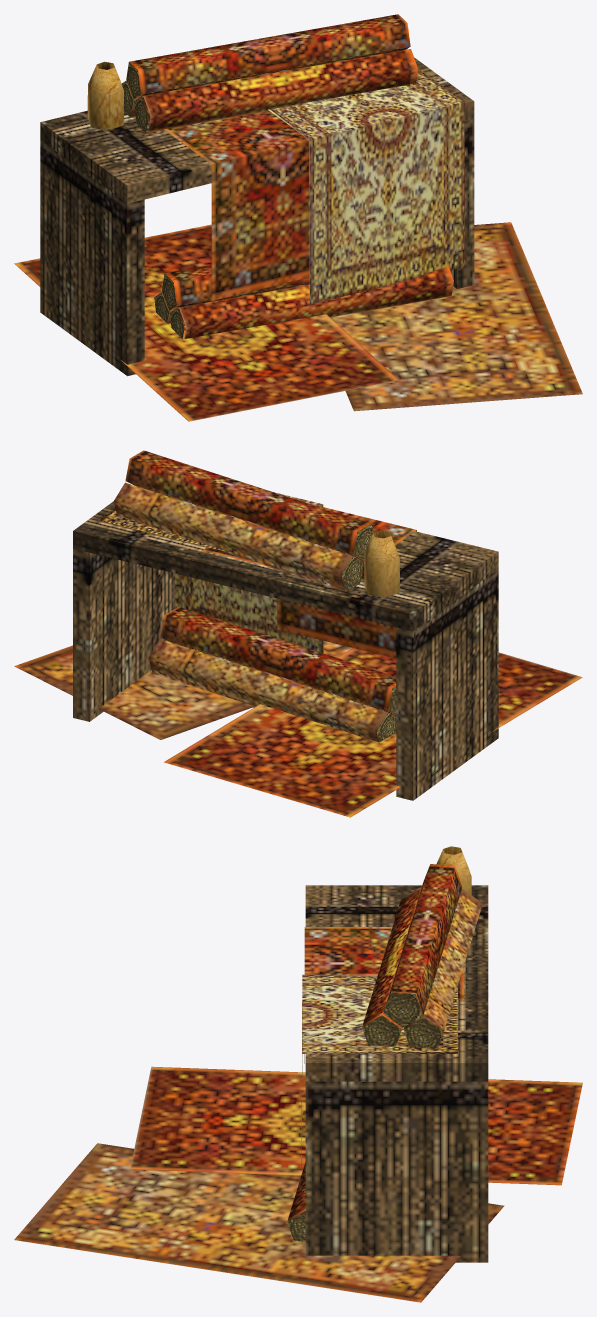
File: treasure_pers_3.dae
3 views of the same model, one above another, from view 1: azimuth 30°, elevation 25°; view 2: azimuth 150°, elevation 25°; view 3: azimuth 270°, elevation 25° (orthographic). The views are drawn at different scales.
Visible parts, largest first — view 1: Object059; view 2: Object059; view 3: Object059.
Boxes of the visible parts, x1,y1,x2,y2 form: Object059: [14, 14, 582, 421]; Object059: [14, 450, 582, 817]; Object059: [14, 846, 582, 1302].
Size of the model in its own units: 5.41 by 5.63 by 2.83.
